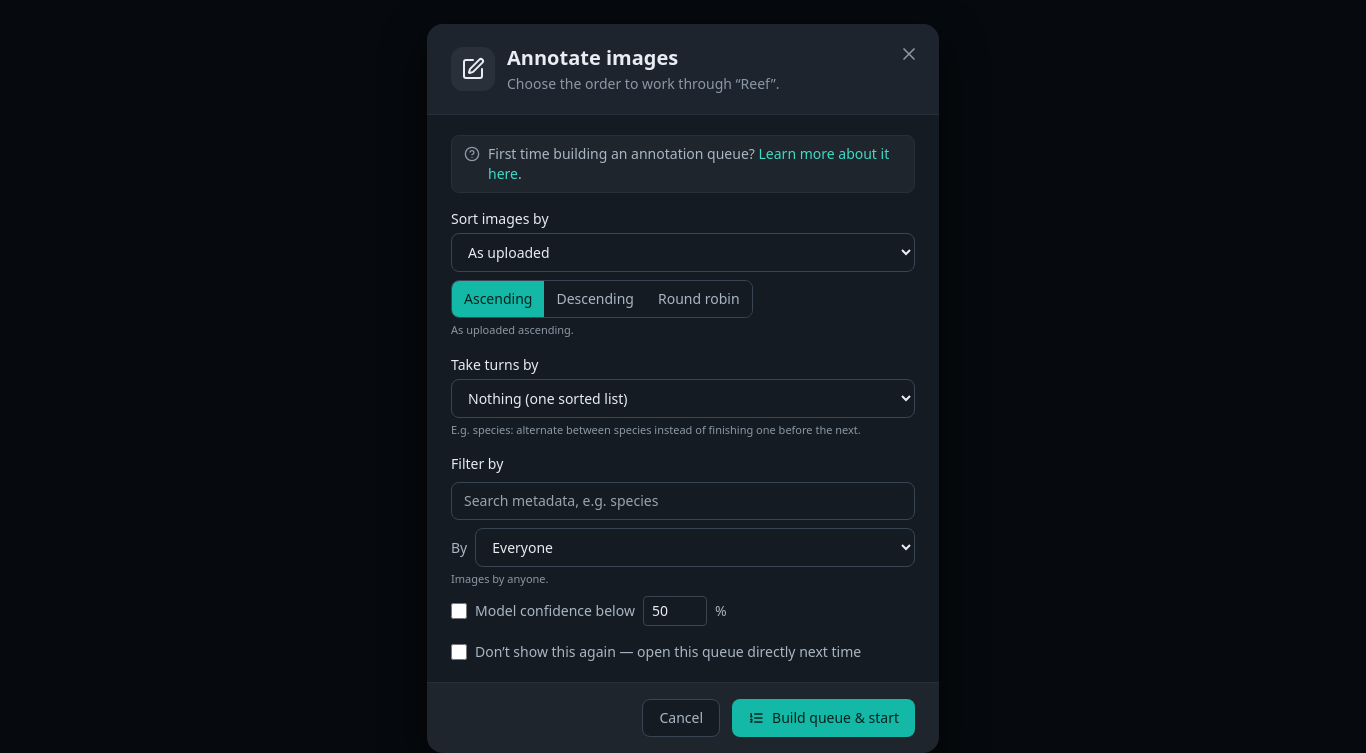
Test: a server refusal is shown without the API prefix
Select "Density" in the dropdown labelled "Sort images by" at {"x": 683, "y": 252}, box [451, 233, 915, 272]
(page scrolled)
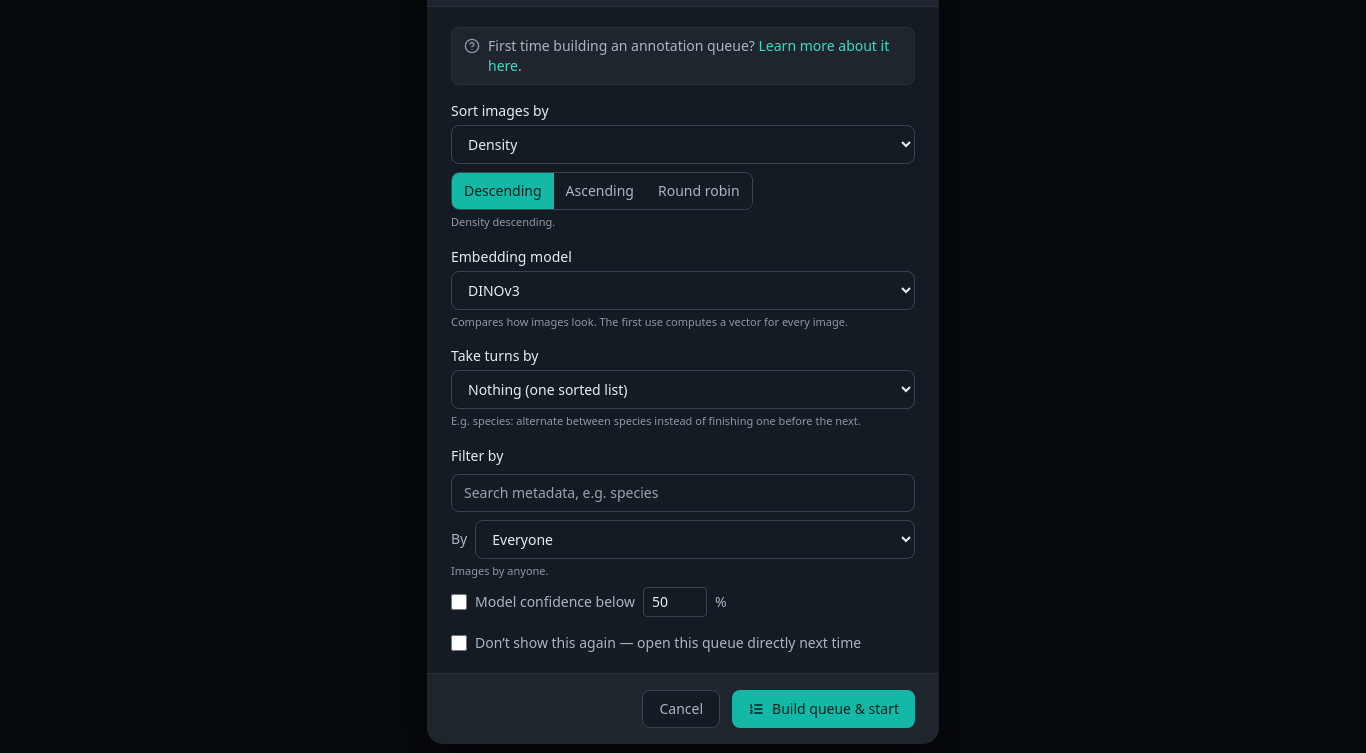
Click the button "Build queue & start" at {"x": 824, "y": 709}, box [732, 690, 915, 728]
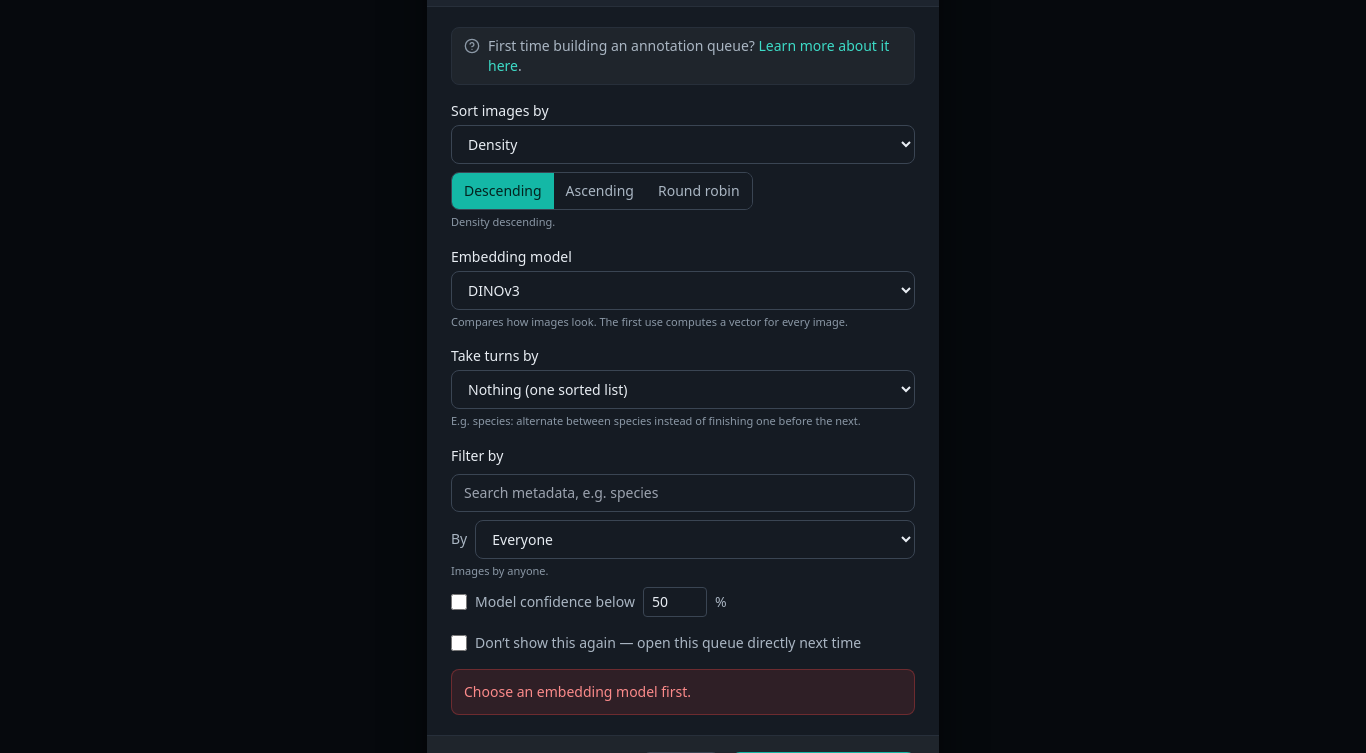
Result: the text "Choose an embedding model first." is shown at [451, 669, 915, 715]
